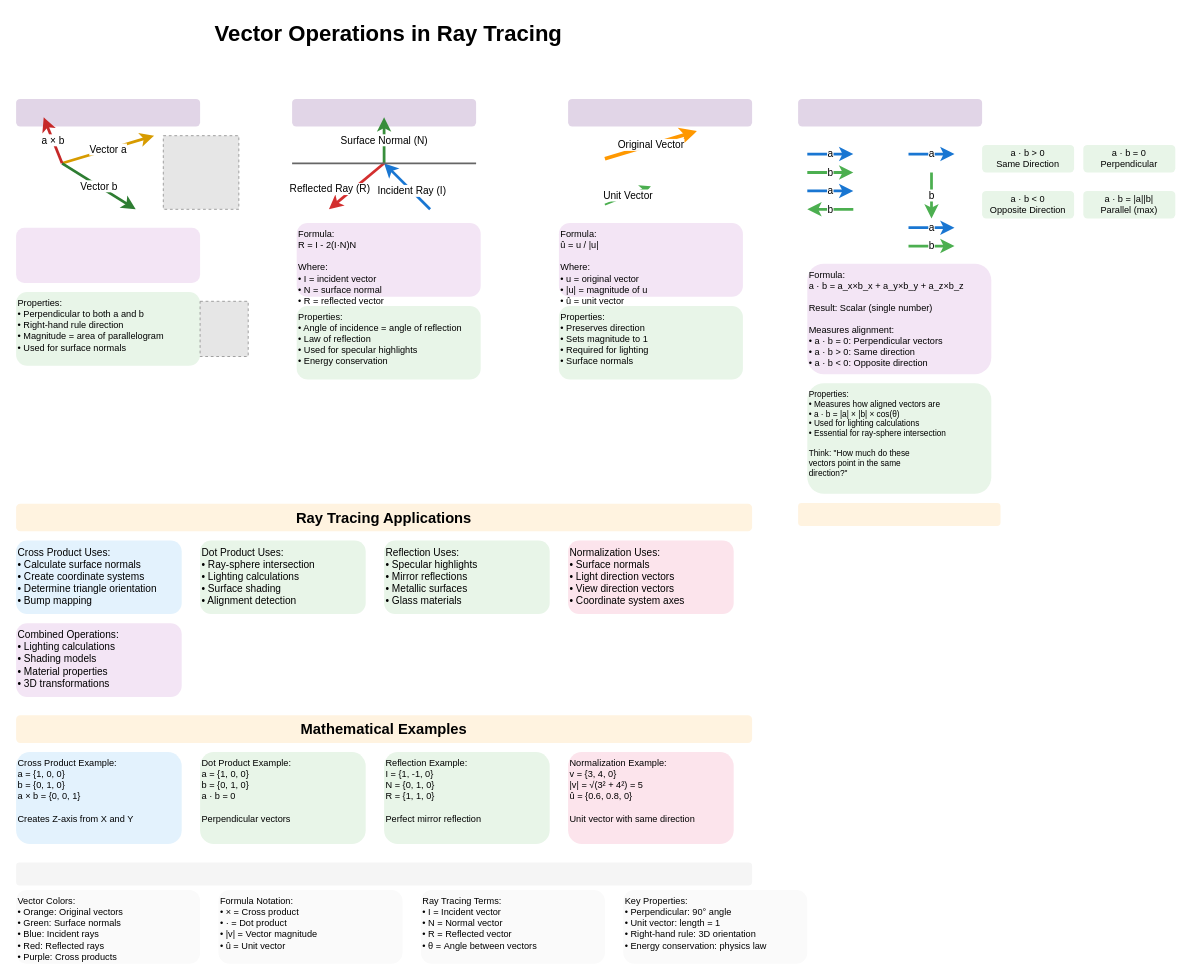
Image size: 1190x979. Some labels were removed from this diagram. Grey dashed boxes stand in for pictures. Each missing label, with the box of its shape:
Cross Product (a × b): (16, 98, 200, 126)
Dot Product (a · b): (798, 98, 982, 126)
Formula: a × b = (a_y×b_z - a_z×b_y, a_z×b_x - a_x×b_z, a_x×b_y - a_y×b_x): (16, 227, 200, 282)
Legend: (16, 862, 752, 885)
Vector Normalization: (568, 98, 752, 126)
Vector Reflection: (292, 98, 476, 126)
Visual Examples: (798, 503, 1000, 526)
